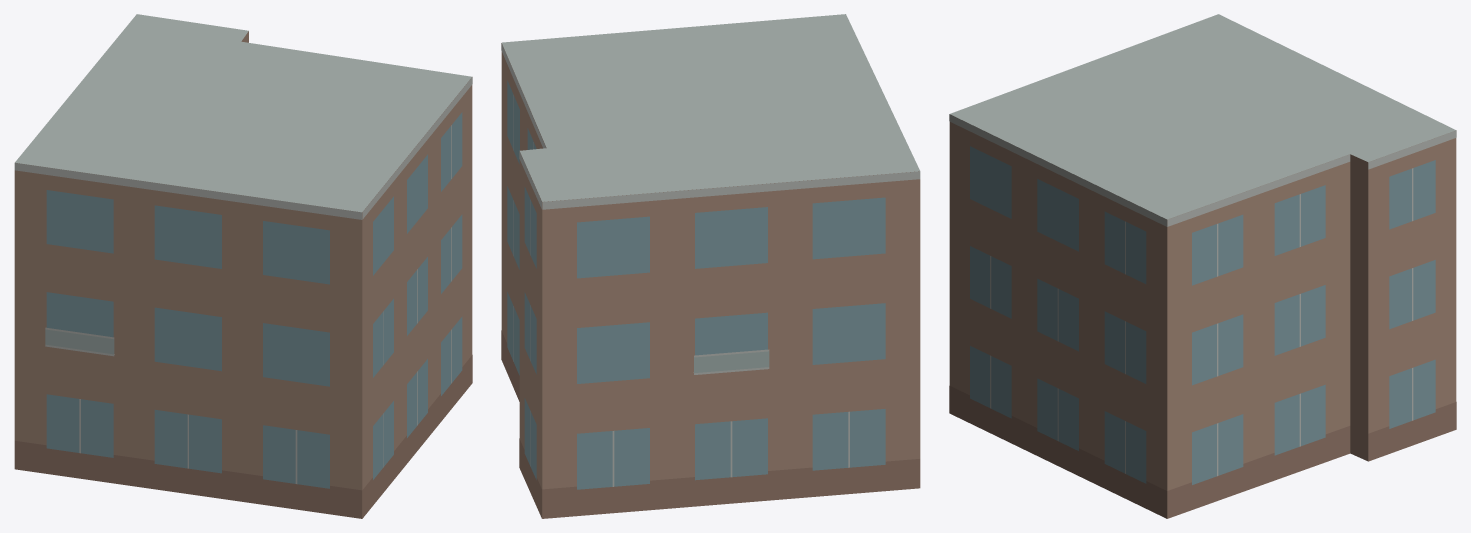
Rendered from survey-upis-32735356.glb.
The picture shows the model from 3 angles, left to right: view 1: azimuth 30°, elevation 25°; view 2: azimuth 150°, elevation 25°; view 3: azimuth 270°, elevation 25°; orthographic projection. The views are drawn at different scales.
Parts seen in each view (by area): view 1: survey-upis-32735356.tmp; view 2: survey-upis-32735356.tmp; view 3: survey-upis-32735356.tmp.
Boxes of the visible parts, bbox=[...] form: survey-upis-32735356.tmp: bbox=[14, 14, 472, 518]; survey-upis-32735356.tmp: bbox=[501, 14, 920, 518]; survey-upis-32735356.tmp: bbox=[949, 14, 1456, 518].
Size of the model in its own units: 14.44 by 9.8 by 15.05.
